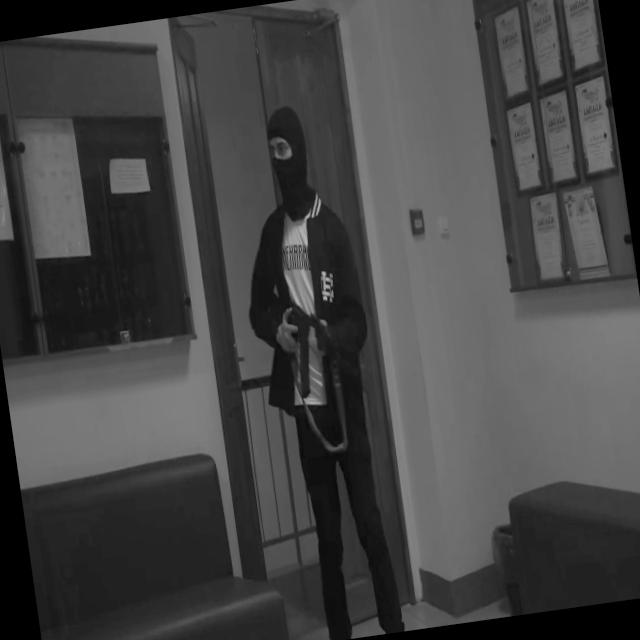gun: (262, 274, 362, 394)
person with a gun: (219, 97, 409, 640)
